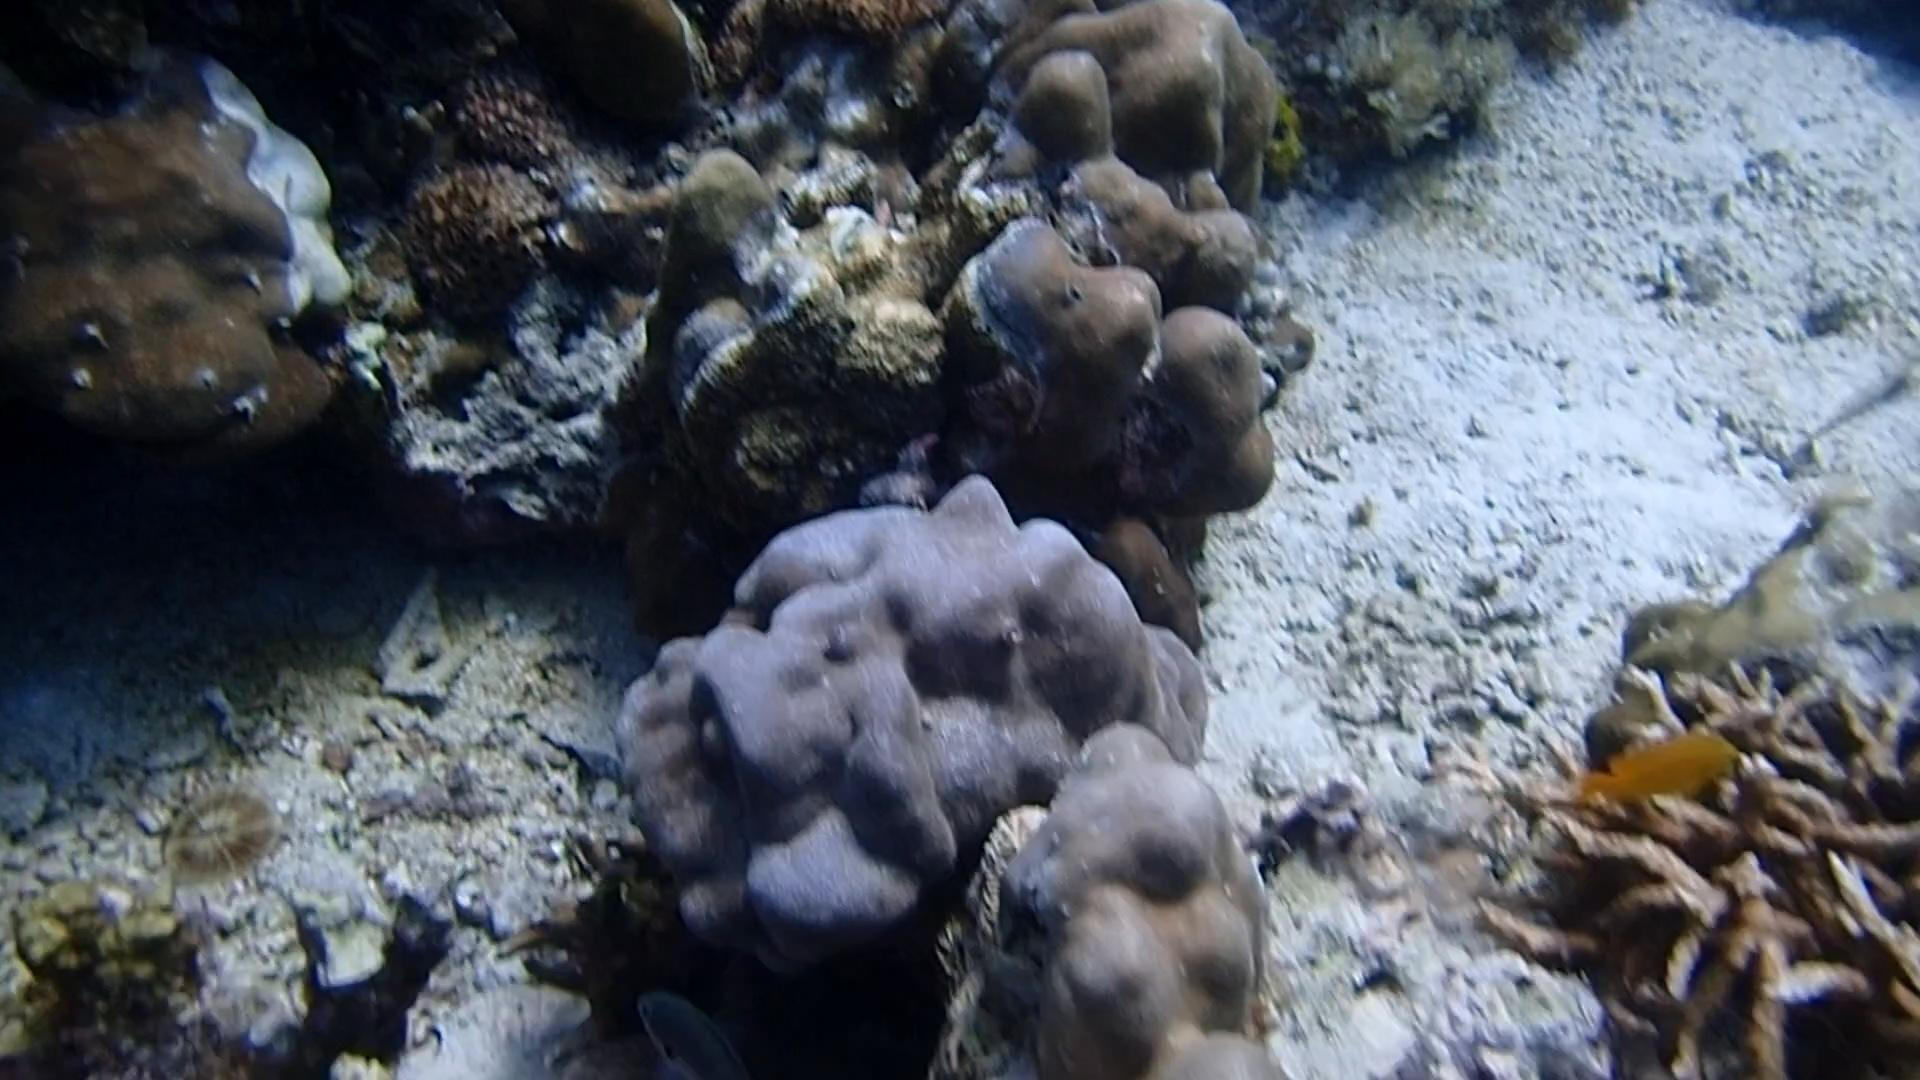Blue Fish Two: (621, 977, 749, 1080)
Yellow Fish: (1564, 720, 1739, 816)
